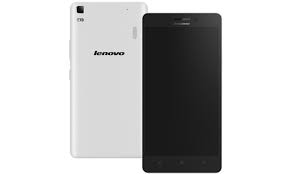lenovo: (137, 11, 226, 174), (68, 1, 139, 160)
